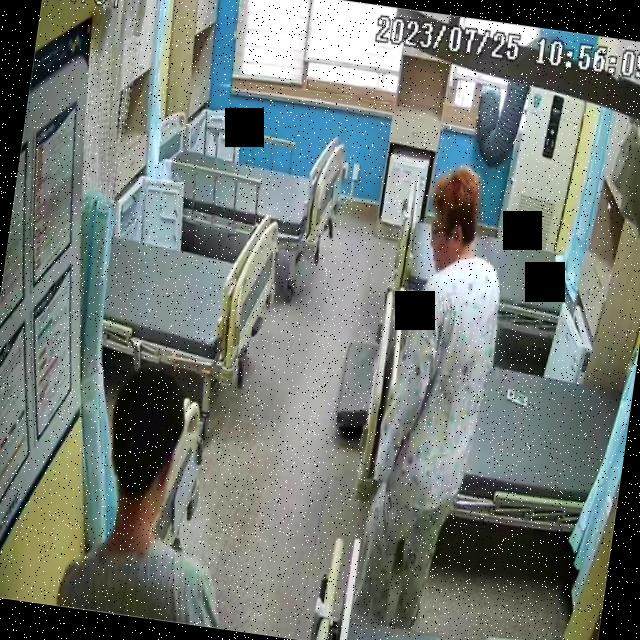bed: (354, 344, 628, 533), (74, 197, 280, 380), (148, 109, 354, 244), (388, 215, 586, 336)
patient: (348, 160, 520, 629), (56, 363, 253, 629)
stand: (348, 162, 520, 632), (55, 366, 252, 628)
